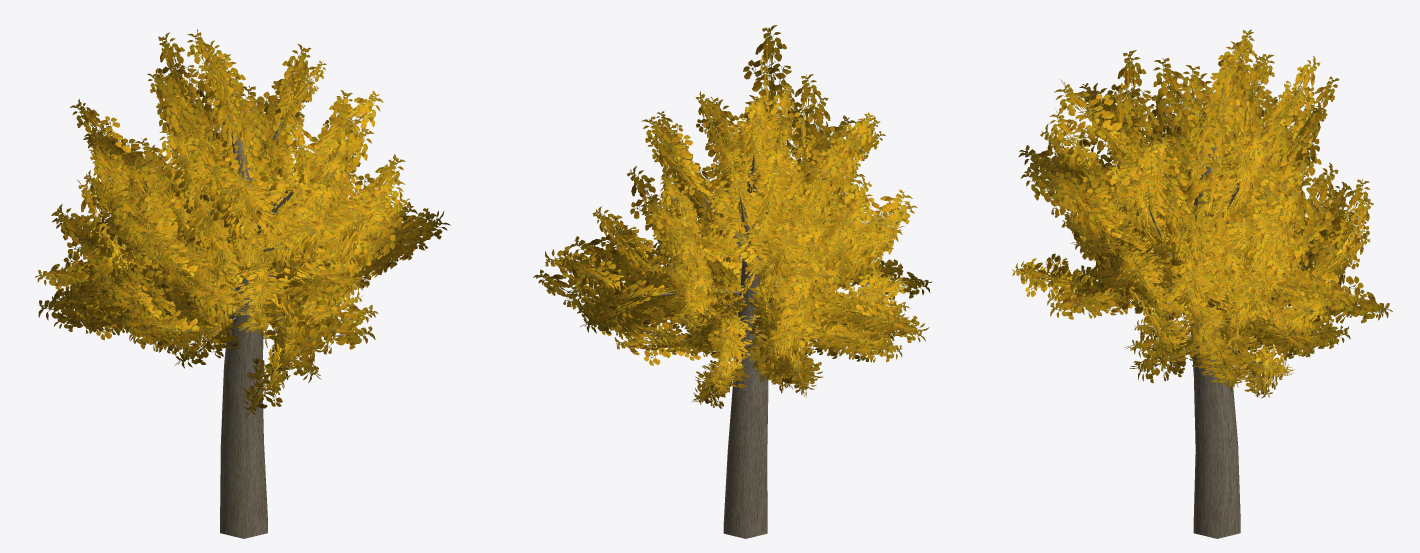
Rendered from tree_LOD1.gltf.
3 renders of one model, left to right at view 1: azimuth 30°, elevation 25°; view 2: azimuth 150°, elevation 25°; view 3: azimuth 270°, elevation 25°, orthographic. The views are drawn at different scales.
Visible parts, largest first — view 1: Leaves_LOD1, Branches_LOD1; view 2: Leaves_LOD1, Branches_LOD1; view 3: Leaves_LOD1, Branches_LOD1.
Boxes of the visible parts, <box> form: Leaves_LOD1: <box>35,29,450,416</box>; Branches_LOD1: <box>166,115,309,538</box>; Leaves_LOD1: <box>533,25,932,408</box>; Branches_LOD1: <box>651,153,842,538</box>; Leaves_LOD1: <box>1012,29,1392,398</box>; Branches_LOD1: <box>1101,133,1330,538</box>.
Size of the model in its own units: 86.68 by 98.16 by 75.46.
Materials: 2 (2 with a texture image).
